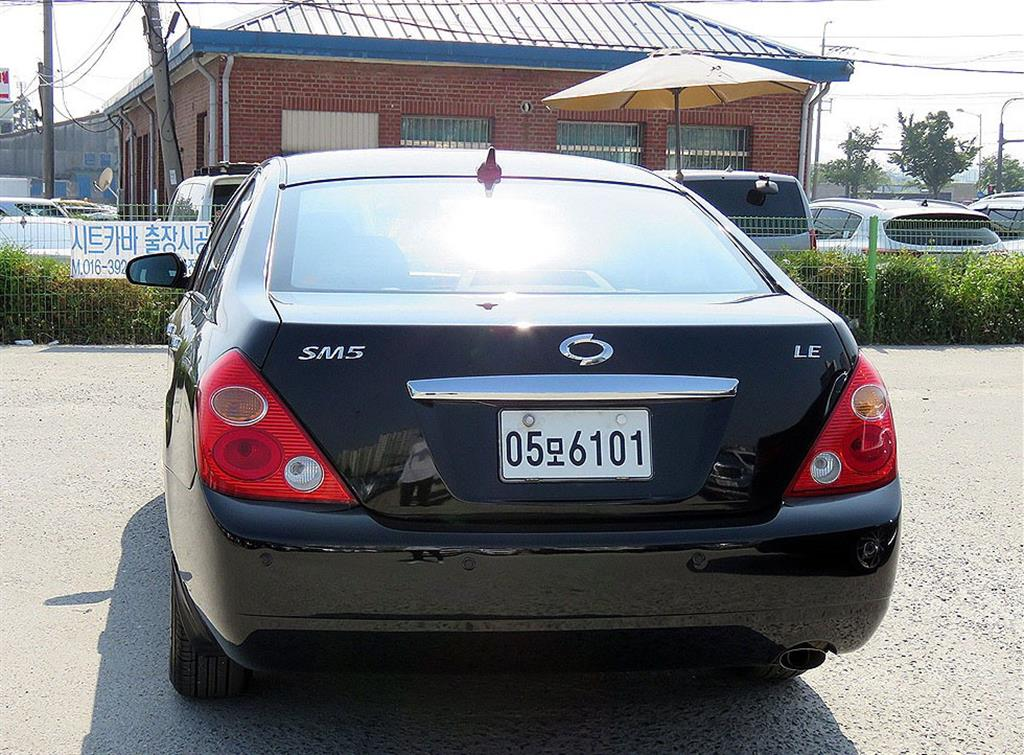plate: (500, 411, 651, 478)
